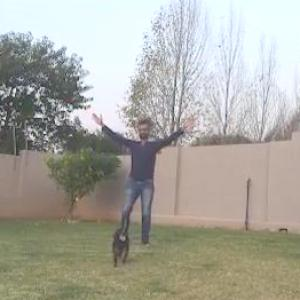takeoff: (94, 113, 196, 240)
